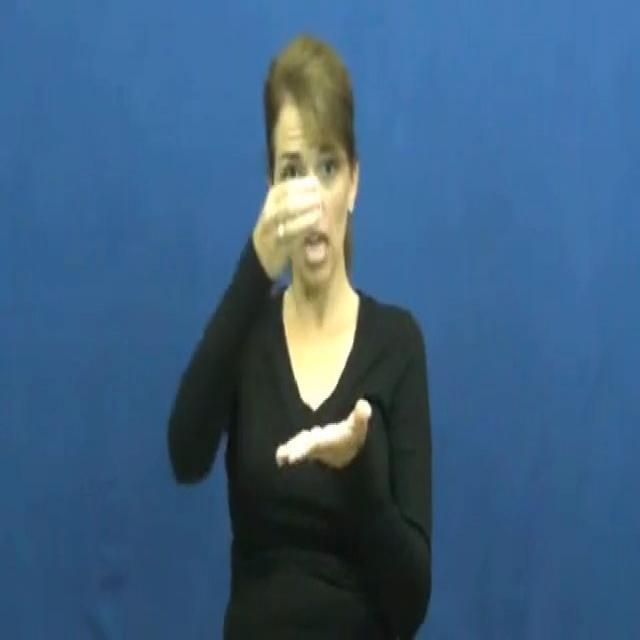straw: (245, 168, 388, 495)
